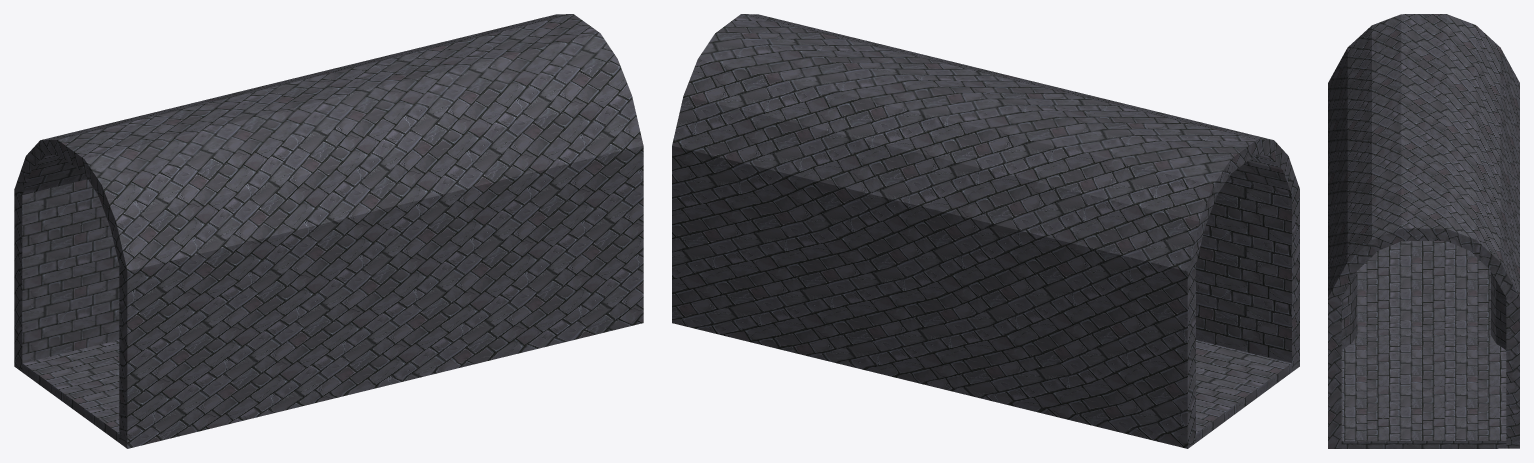
Rendered from dungeonsMiddleLong.fbx.
3 renders of one model, left to right at view 1: azimuth 30°, elevation 25°; view 2: azimuth 150°, elevation 25°; view 3: azimuth 270°, elevation 25°, orthographic. The views are drawn at different scales.
Parts seen in each view (by area): view 1: DungedonsMiddleLong; view 2: DungedonsMiddleLong; view 3: DungedonsMiddleLong.
Boxes of the visible parts, <box> form: DungedonsMiddleLong: <box>14,14,643,448</box>; DungedonsMiddleLong: <box>672,14,1299,448</box>; DungedonsMiddleLong: <box>1328,14,1519,448</box>.
Size of the model in its own units: 12.2 by 5.83 by 4.61.
